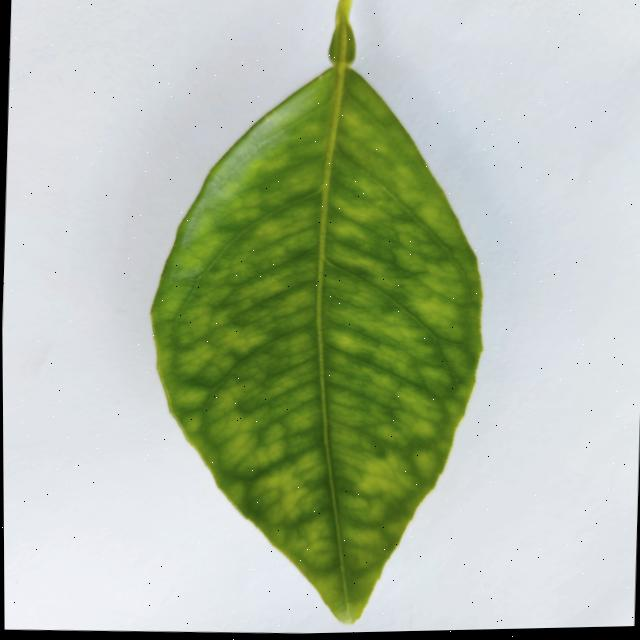greening: (152, 0, 481, 622)
